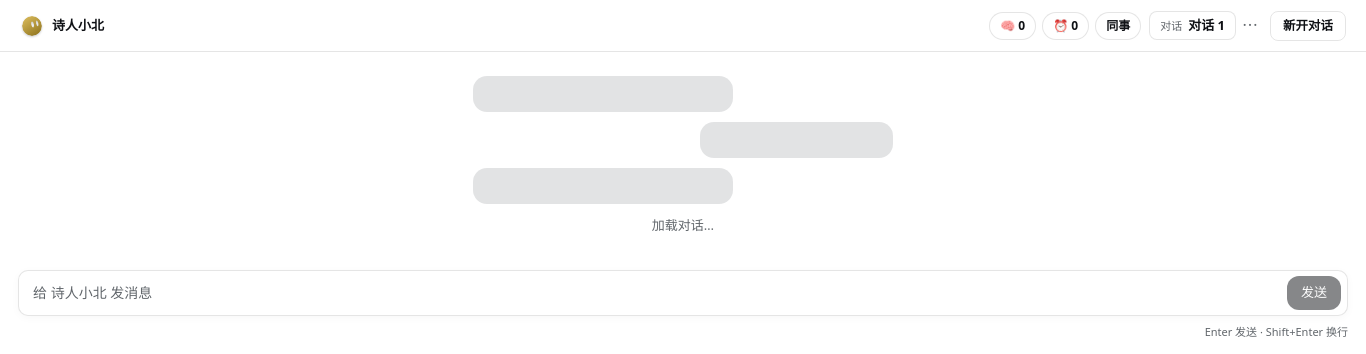
Scenario: Conversation › offers a current-session menu that can rename the thread
Click the button with test id "session-current-menu". click: point(1250, 26)
box: [1238,14,1262,38]
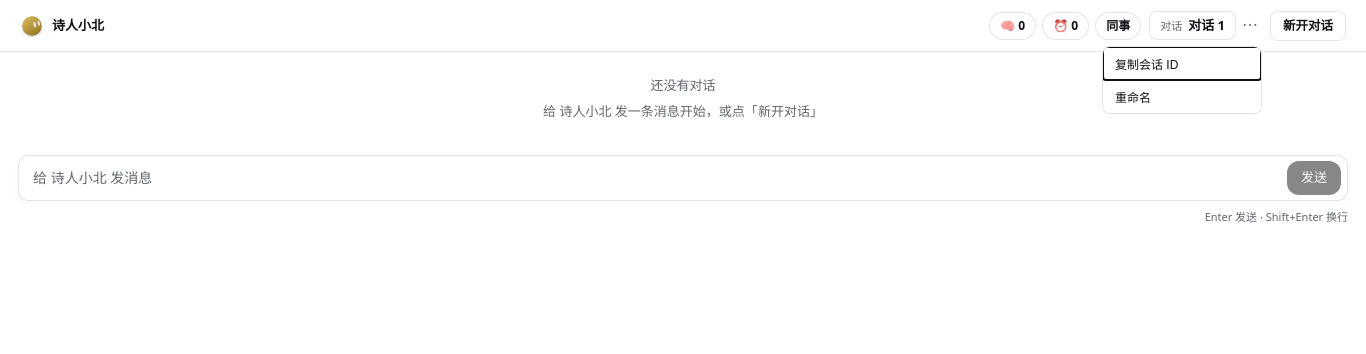
Now the menu item with test id "session-current-jump" reads "复制会话 ID", box [1103,47,1261,80]
Now the menu item with test id "session-current-rename" reads "重命名"
Click the menu item with test id "session-current-rename". click: point(1182, 97)
box: [1103,80,1261,113]
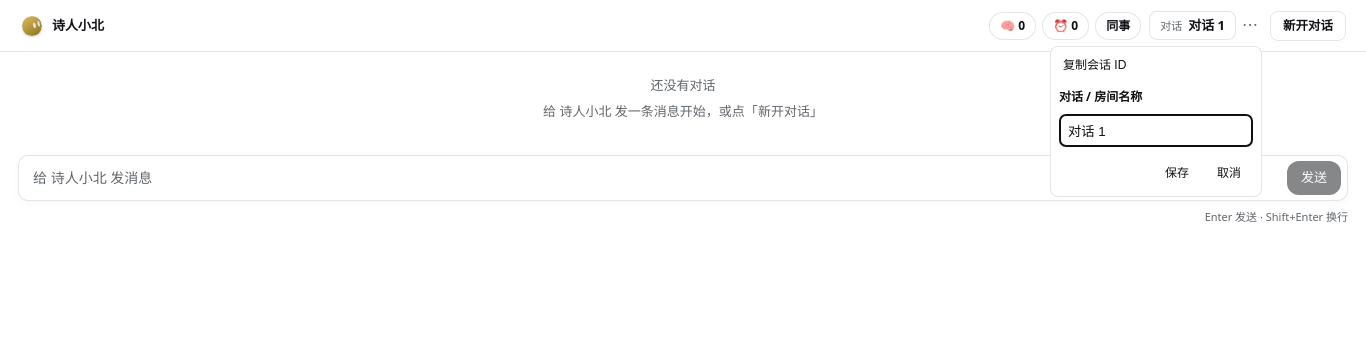
Now the field named "对话或房间名称" is shown, box [1059,114,1253,147]
